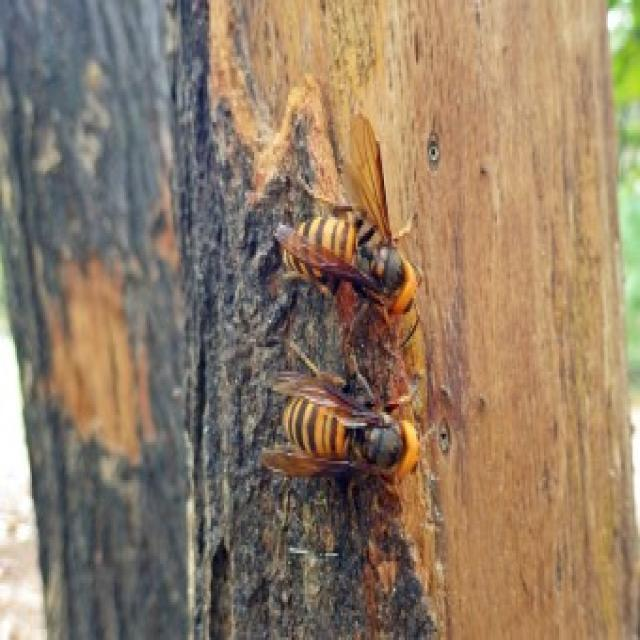Wasp: (272, 110, 422, 347), (279, 356, 442, 508)
